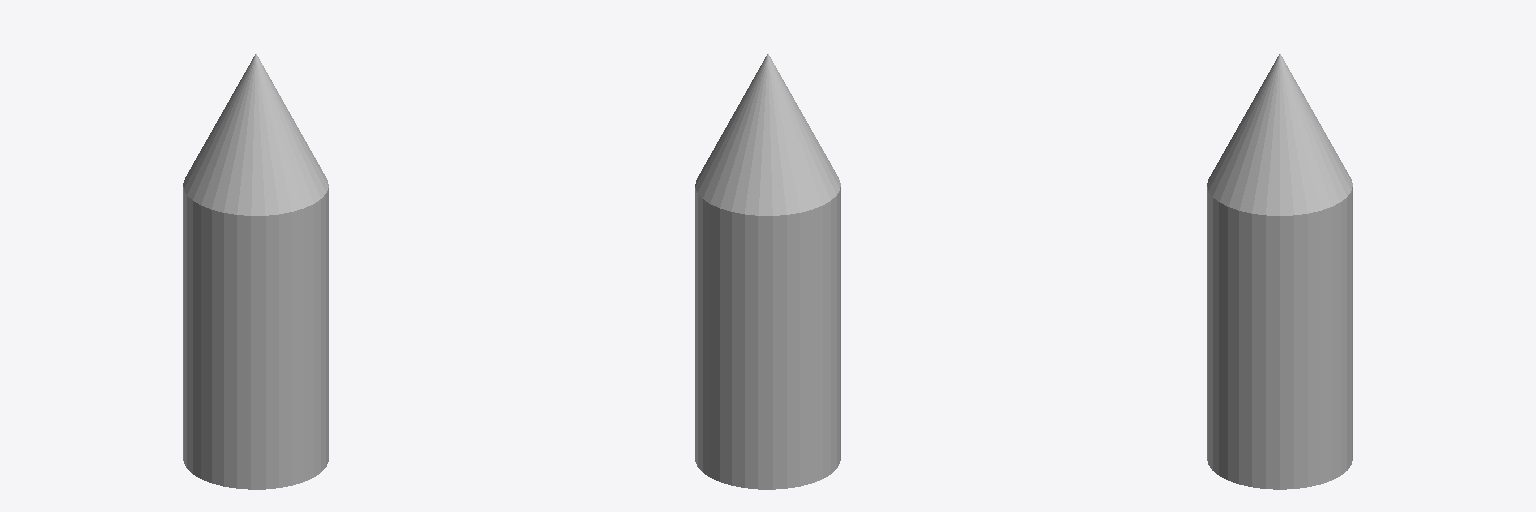
Rendered from bullet.obj.
3 views of the same model, side by side, from view 1: azimuth 30°, elevation 25°; view 2: azimuth 150°, elevation 25°; view 3: azimuth 270°, elevation 25° (orthographic).
Visible parts, largest first — view 1: Cone; view 2: Cone; view 3: Cone.
Boxes of the visible parts, box(x1,y1,x2,y2) form: Cone: box(183, 54, 328, 489); Cone: box(695, 54, 840, 489); Cone: box(1207, 54, 1352, 489).
Size of the model in its own units: 19.42 by 59.62 by 19.42.